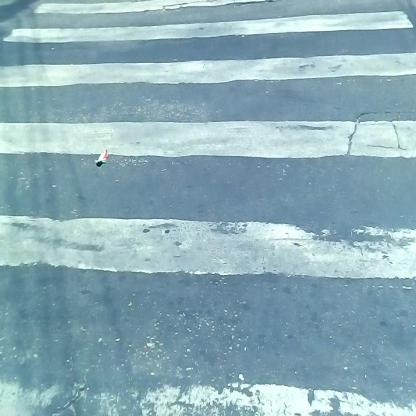crosswalk: (13, 8, 413, 416)
